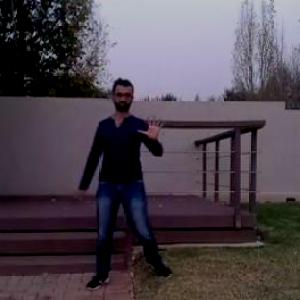follow_hand: (136, 109, 170, 143)
